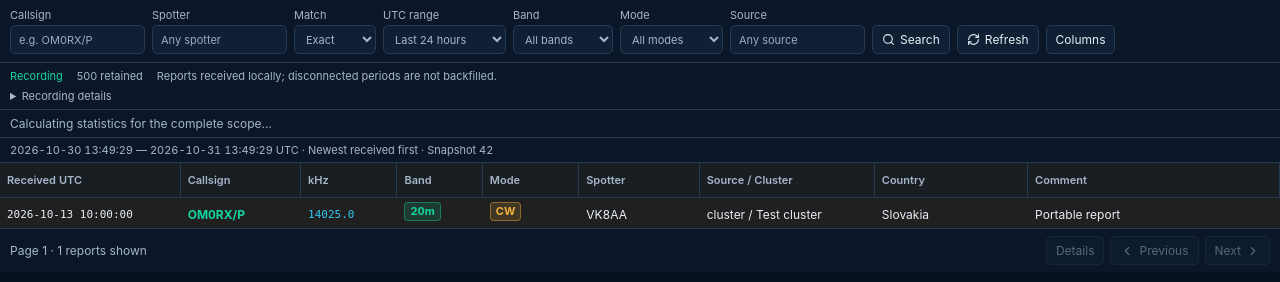
Test: Spot History asynchronous boundaries › ignores a late statistics success after a new search
Expected: the text "OM0RX/P" is shown, [181,198,301,228]
Step 1. Type "NEWCALL" into the field named "History callsign" → (78, 40), box [10,25,145,54]
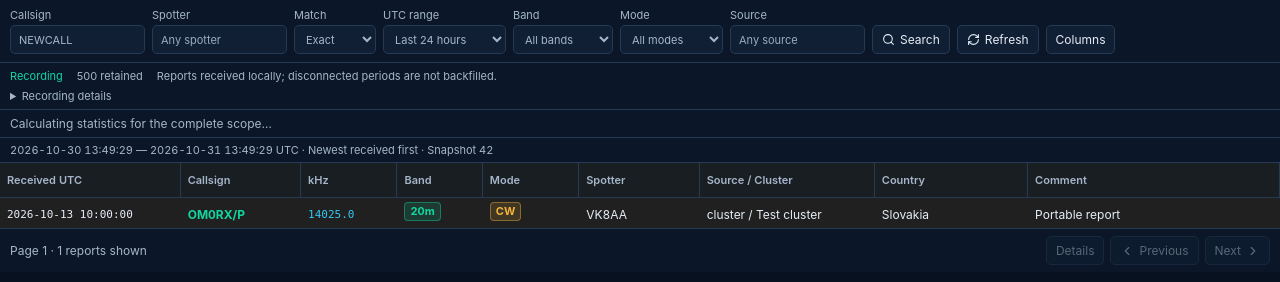
Step 2. Click the button "Search" → click(911, 40), box [872,25,950,54]
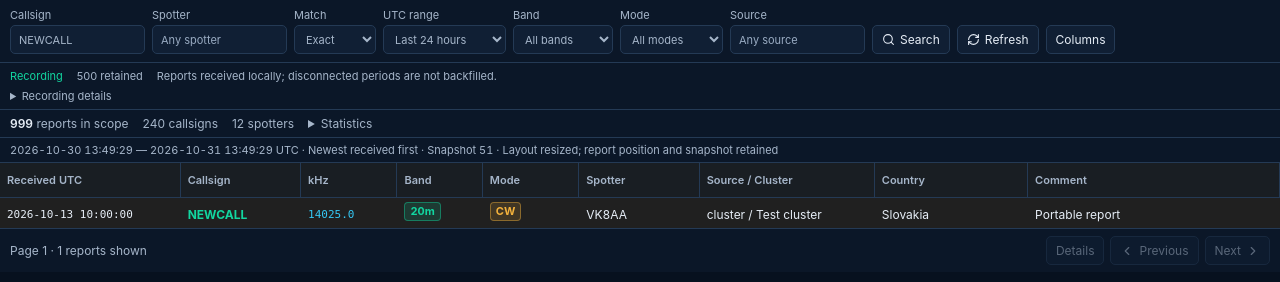
Expected: the text "999" is shown, [10,116,33,131]
